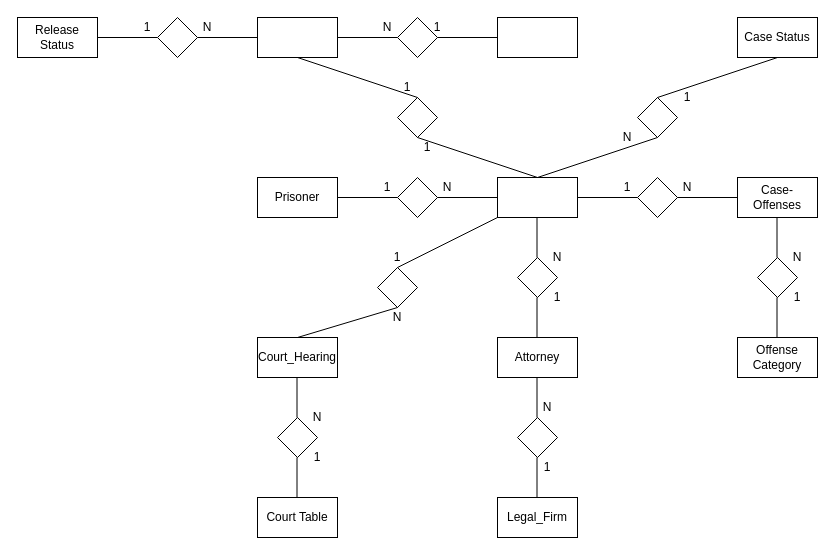
Some shapes in this 835 by 555 pixel diagram are drawn without their labels. Each missing label, with the centre of its shape:
"Case" belongs at (x=537, y=197).
"Incarceration Table" belongs at (x=297, y=37).
"Prison" belongs at (x=537, y=37).
